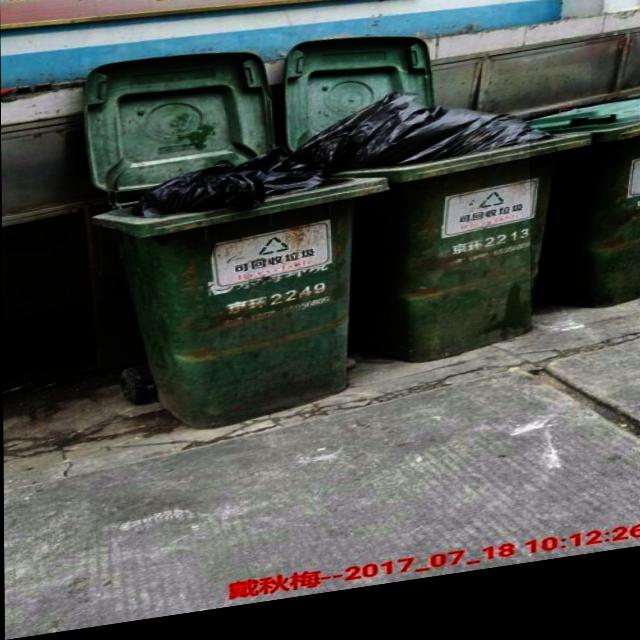garbage_bin: (530, 116, 640, 332)
overflow: (89, 141, 387, 448), (347, 80, 593, 383)
